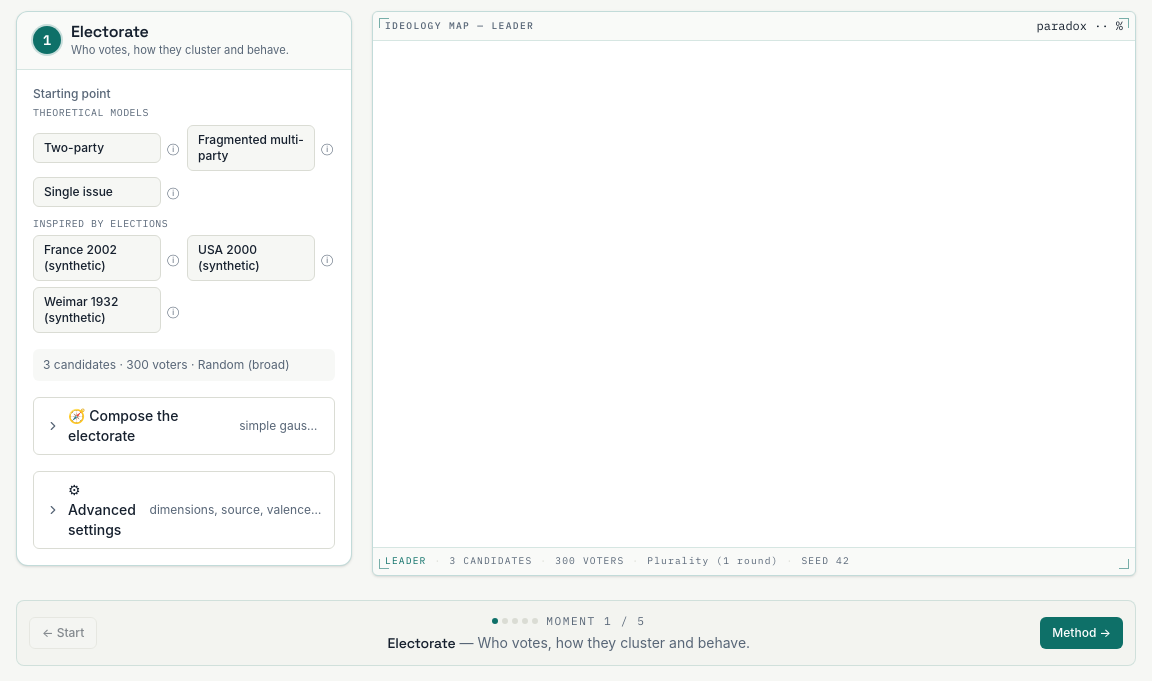
PlaygroundPage (P0 shell) › per-community z sliders appear only when the map is in 3-D
The width and height of the screenshot is (1152, 681).
(page scrolled)
Click the button with test id "module-electorate-toggle" at (123, 416), box [34,398,334,454]
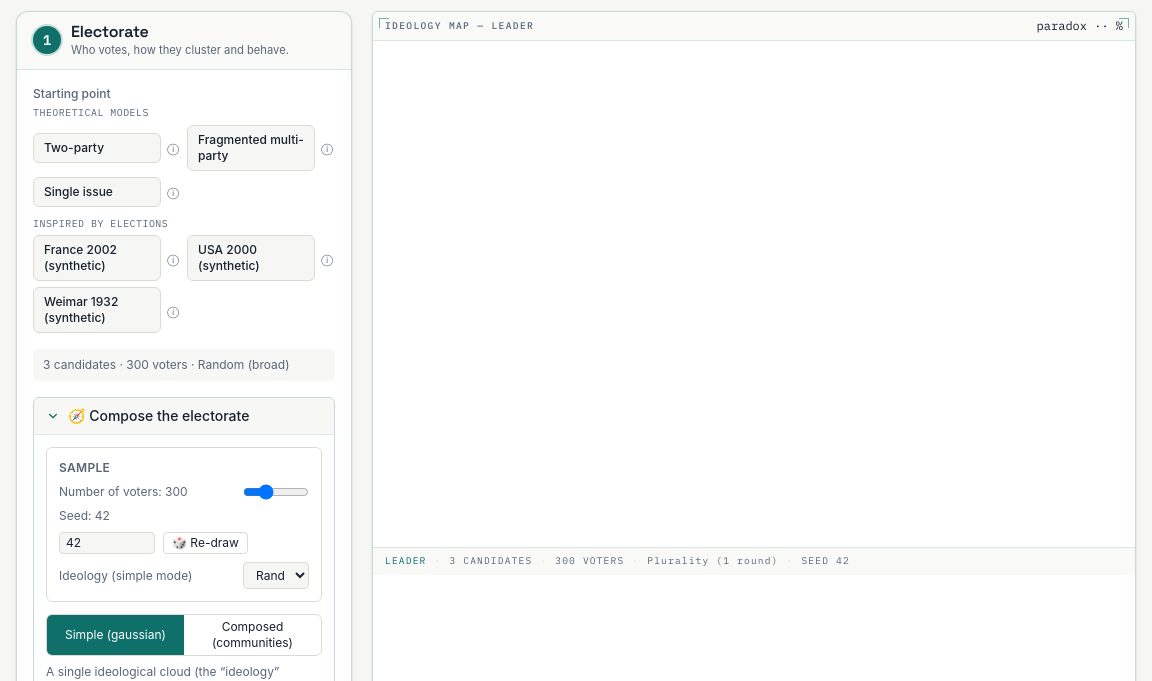
Click the button with test id "electorate-mode-composed" at (252, 635), box [184,615,321,655]
(page scrolled)
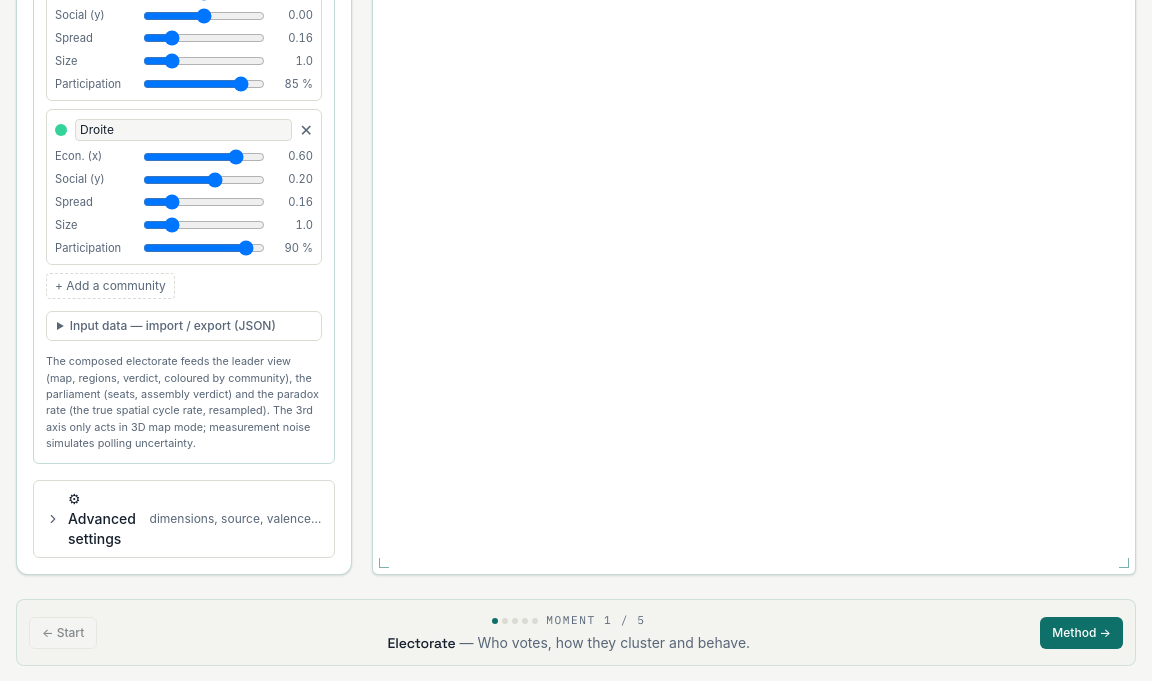
Click the button with test id "electorate-advanced-toggle" at (184, 519), box [34,481,334,557]
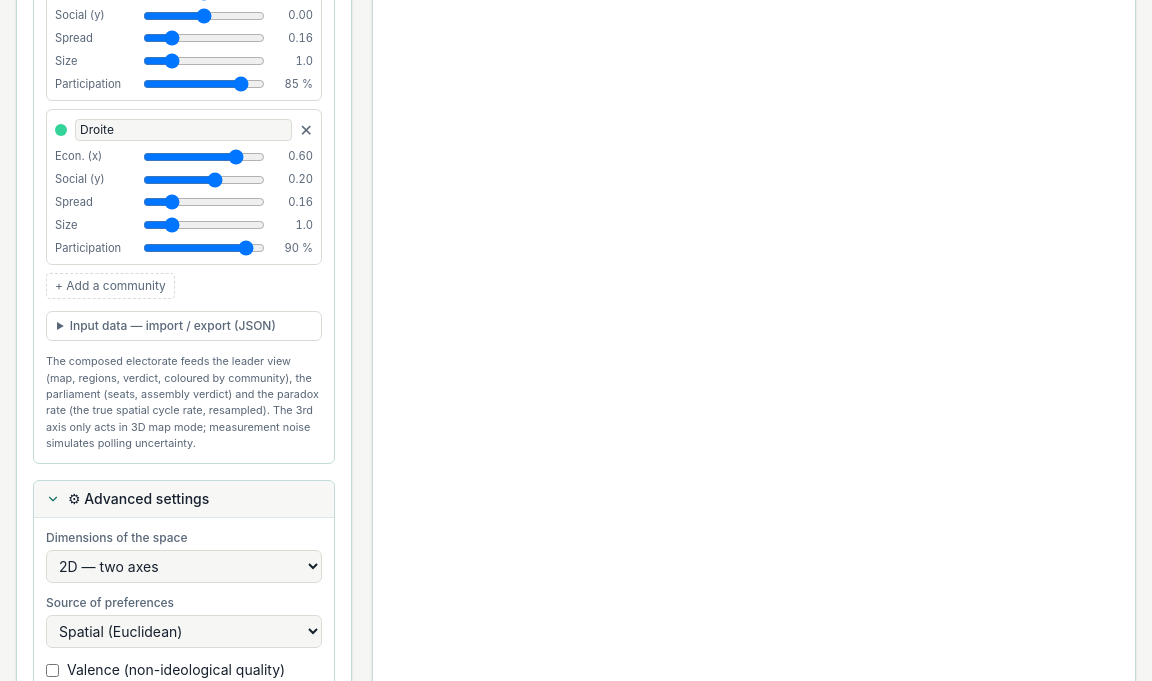
Select "3D — three axes" in the dropdown labelled "Dimensions of the space" at (184, 567), box [46,550,322,583]
(page scrolled)
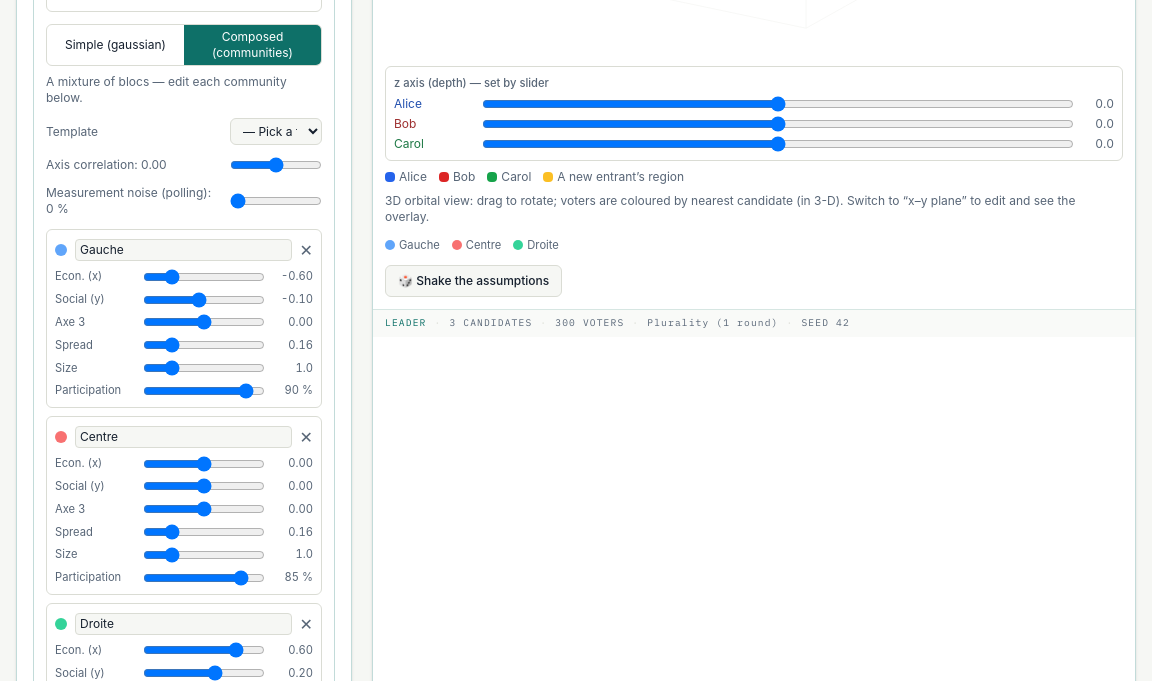
Expected: the slider with test id "community-z-g" is shown, [143,314,265,330]
